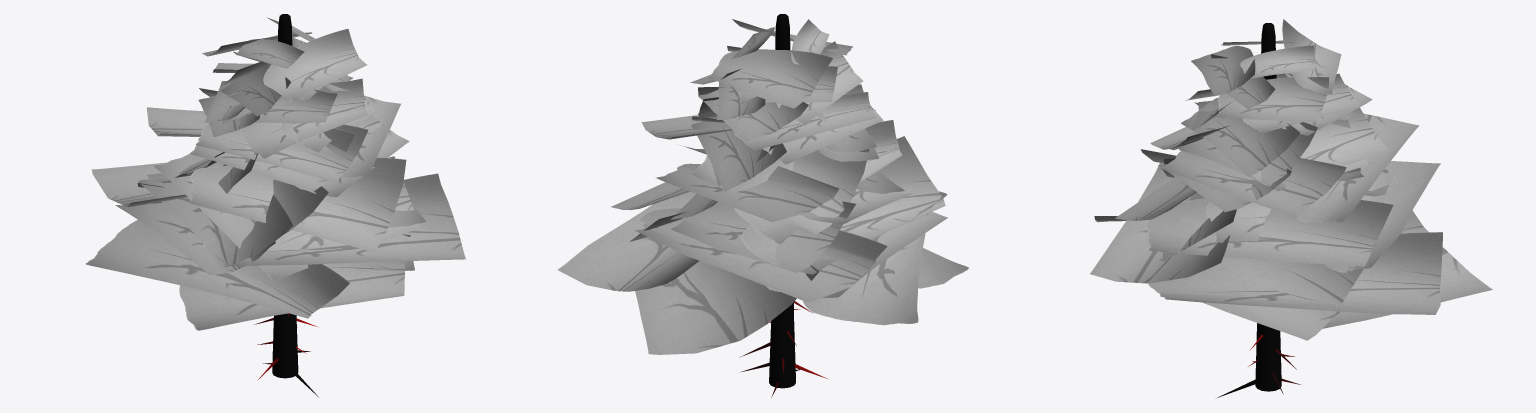
Rendered from M_Pine_5_5.fbx.
3 renders of one model, left to right at view 1: azimuth 30°, elevation 25°; view 2: azimuth 150°, elevation 25°; view 3: azimuth 270°, elevation 25°, orthographic. The views are drawn at different scales.
Visible parts, largest first — view 1: Mobile_Pine_5; view 2: Mobile_Pine_5; view 3: Mobile_Pine_5.
Part boxes in pixels (box(x1,y1,x2,y2)): Mobile_Pine_5: box(85, 14, 465, 396); Mobile_Pine_5: box(557, 14, 968, 397); Mobile_Pine_5: box(1090, 19, 1492, 397).
Bounding box in the file's own units: 2013 × 1761 × 2035.
